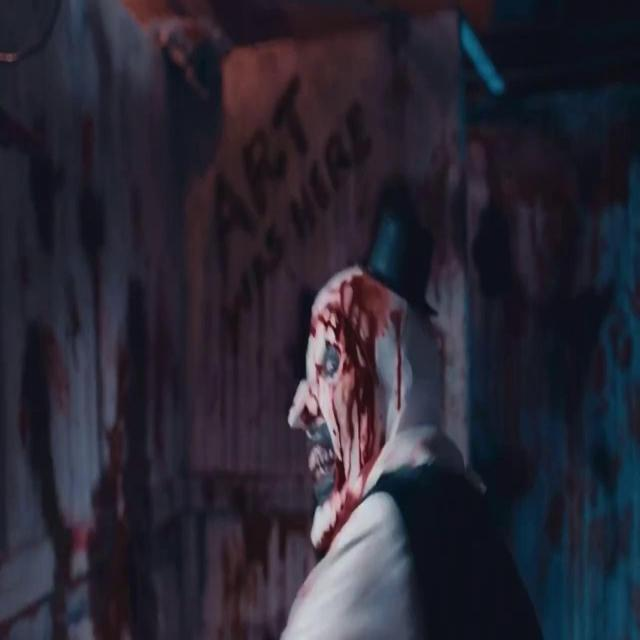flood: (18, 327, 134, 640), (336, 276, 386, 481)
